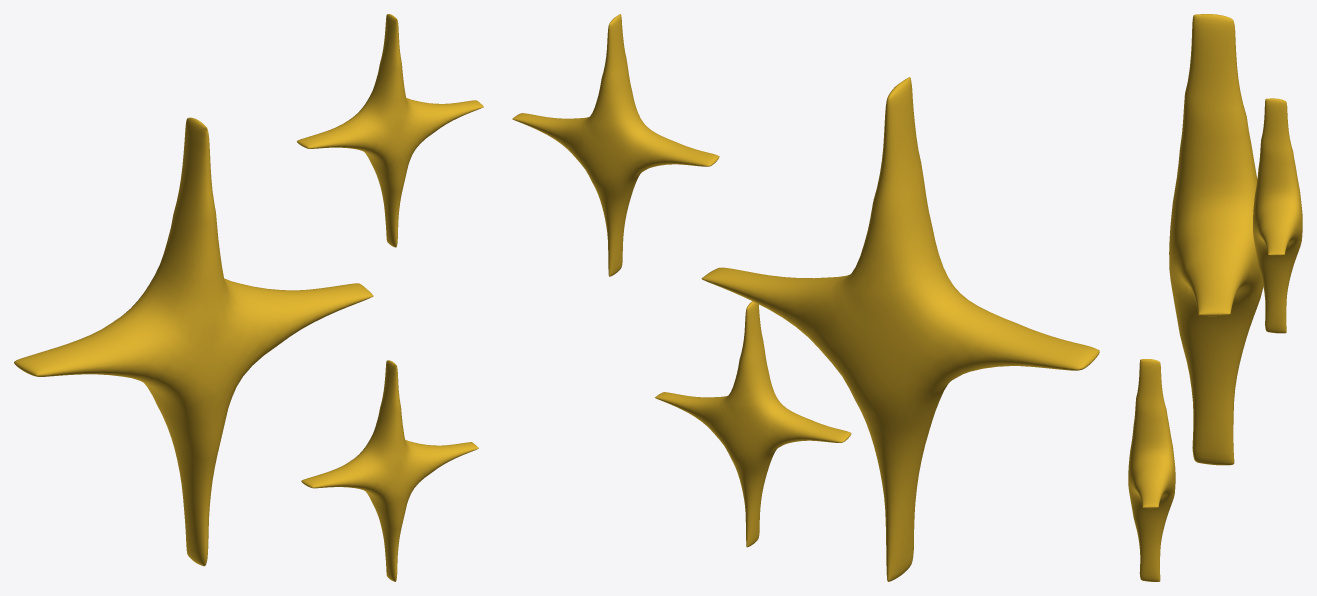
Rendered from stars FBX.glb.
3 renders of one model, left to right at view 1: azimuth 30°, elevation 25°; view 2: azimuth 150°, elevation 25°; view 3: azimuth 270°, elevation 25°, orthographic. The views are drawn at different scales.
Visible parts, largest first — view 1: Star3, Star2, stars; view 2: Star3, Star2, stars; view 3: Star3, Star2, stars.
Part boxes in pixels (box(x1,y1,x2,y2)): Star3: box(14, 117, 373, 566); Star2: box(297, 14, 483, 247); stars: box(301, 360, 478, 581); Star3: box(701, 77, 1099, 581); Star2: box(512, 14, 719, 276); stars: box(655, 301, 851, 547); Star3: box(1169, 14, 1263, 465); Star2: box(1253, 98, 1302, 333); stars: box(1128, 359, 1175, 581).
Size of the model in its own units: 0.6305 by 0.6217 by 0.1912.
